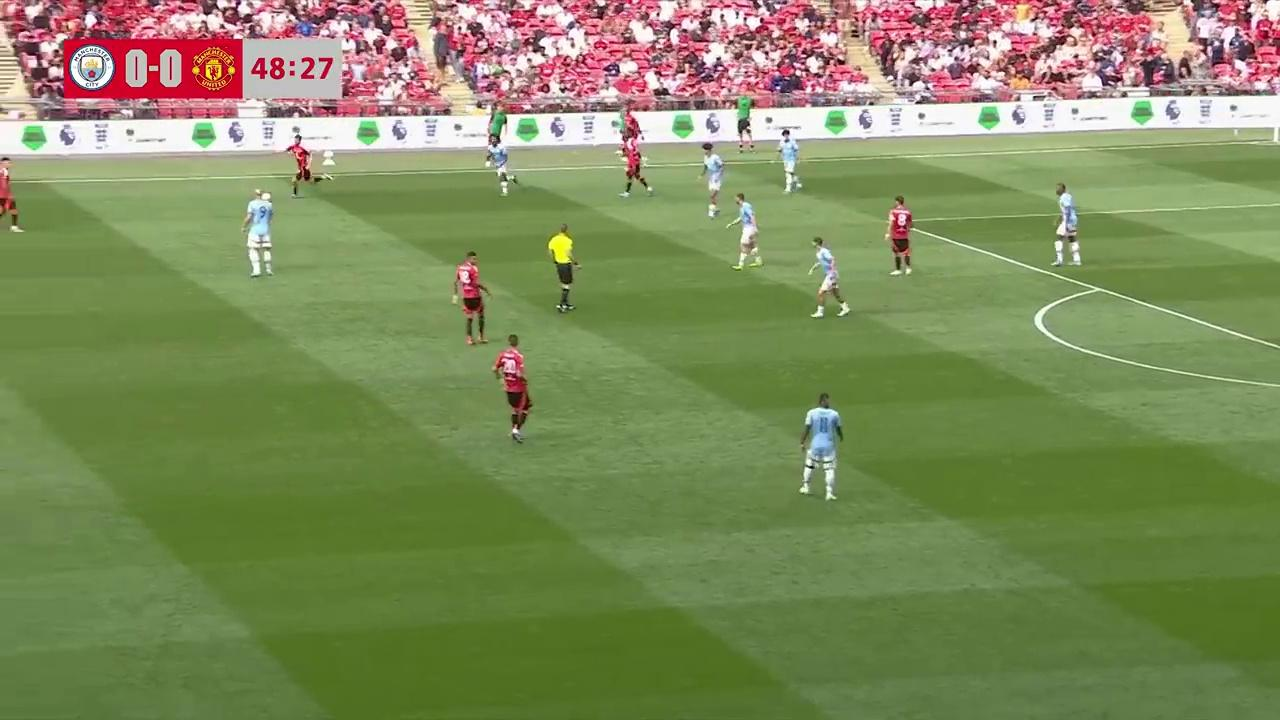ball: (260, 190, 273, 203)
player: (797, 392, 843, 501), (492, 334, 532, 442), (451, 250, 490, 346), (808, 236, 850, 319), (243, 186, 273, 277), (728, 192, 763, 269), (1052, 182, 1081, 267), (885, 195, 913, 276), (619, 138, 653, 197), (619, 139, 653, 197), (699, 148, 725, 219), (486, 134, 514, 195), (0, 159, 23, 232), (289, 134, 316, 196), (780, 132, 802, 193)
referee: (547, 224, 578, 312)
